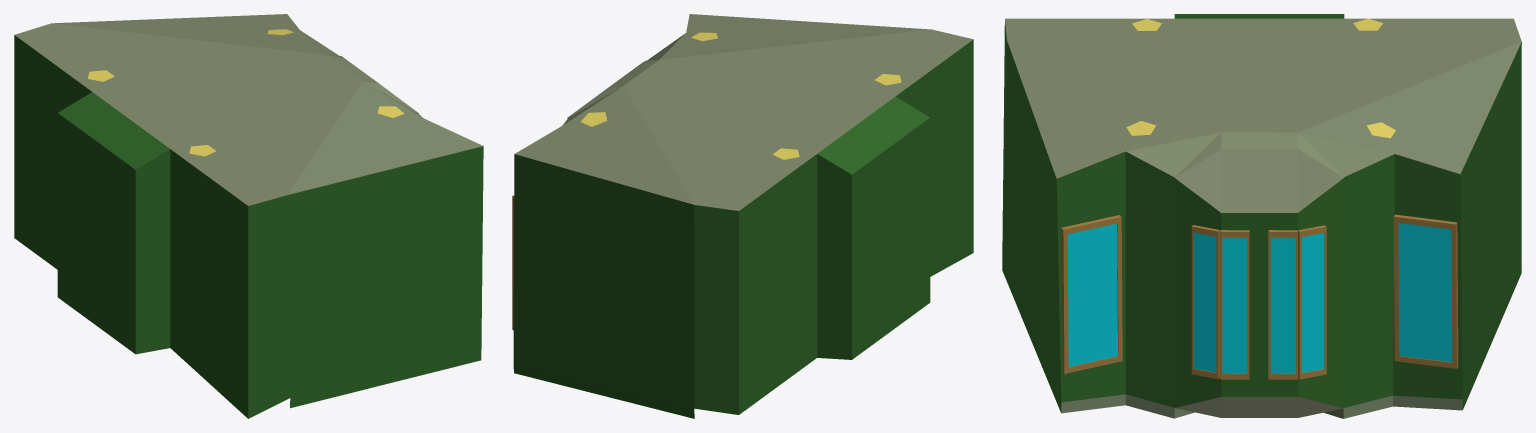
File: blok hijau.glb
3 views of the same model, side by side, from view 1: azimuth 30°, elevation 25°; view 2: azimuth 150°, elevation 25°; view 3: azimuth 270°, elevation 25° (orthographic). The views are drawn at different scales.
Parts seen in each view (by area): view 1: Cube.001; view 2: Cube.001; view 3: Cube.001, Cube.006, Cube.005, Cube.018, Cube.002, Cube.004, Cube.003.
Part boxes in pixels (x1,y1,x2,y2): Cube.001: [14, 14, 483, 418]; Cube.001: [513, 14, 973, 418]; Cube.001: [1002, 14, 1521, 418]; Cube.006: [1393, 214, 1458, 368]; Cube.005: [1061, 215, 1122, 373]; Cube.018: [1220, 230, 1249, 379]; Cube.002: [1268, 230, 1297, 379]; Cube.004: [1298, 225, 1326, 379]; Cube.003: [1191, 225, 1219, 379].
Bounding box in the file's own units: 2.63 × 2.13 × 3.58.
